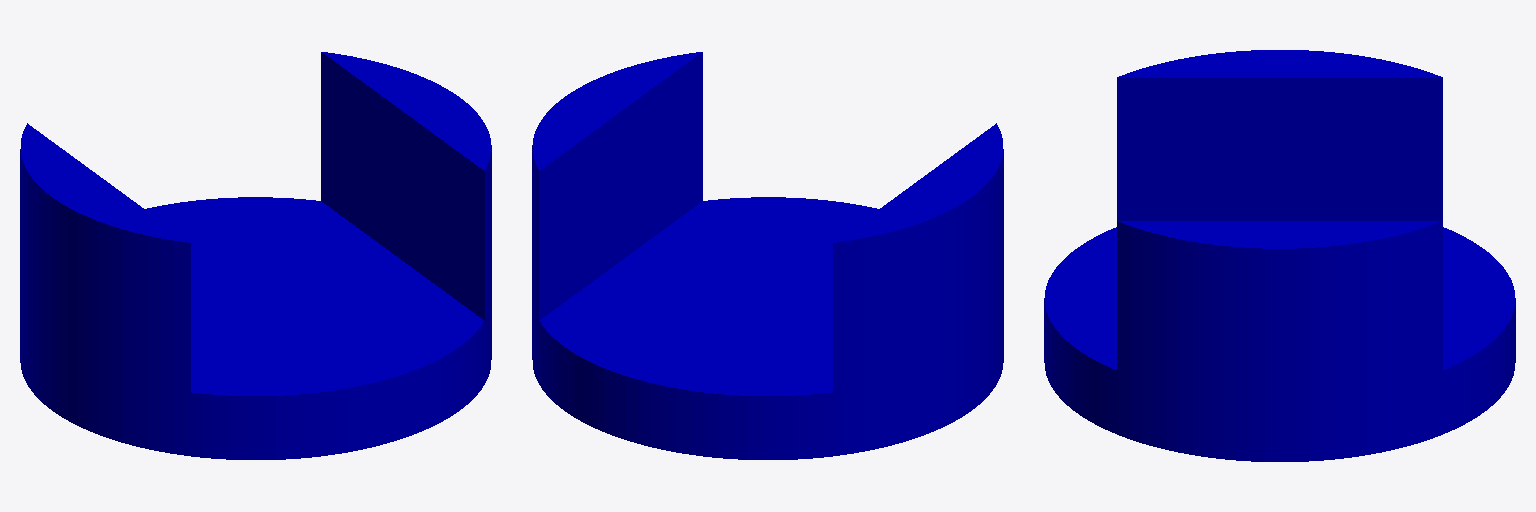
robot.urdf — visual:
<?xml version="1.0"?>
<robot name="visual">

<link name="base_link">
  <visual>
    <geometry>
      <mesh filename="base_moving.stl"/>
    </geometry>
    <material name="blue">
      <color rgba="0 0 .8 1"/>
    </material>
  </visual>
  <collision>
    <geometry>
      <mesh filename="base_moving.stl"/>
    </geometry>
  </collision>
  <inertial>
    <mass value="10"/>
    <inertia ixx="1e-3" ixy="0.0" ixz="0.0" iyy="1e-3" iyz="0.0" izz="1e-3"/>
  </inertial>
</link>

</robot>

--- Facts derived from the render (not from the file) ---
3 views of the same robot in one strip: view 1: azimuth 30°, elevation 25°; view 2: azimuth 150°, elevation 25°; view 3: azimuth 270°, elevation 25° (orthographic).
Robot: visual — 1 links, 0 joints (none); root link base_link; default pose: every joint at zero.
Visible links, largest first — view 1: base_link; view 2: base_link; view 3: base_link.
Link boxes in pixels (left/top/right/bottom): base_link: left=20, top=52, right=491, bottom=459; base_link: left=532, top=52, right=1003, bottom=459; base_link: left=1044, top=50, right=1515, bottom=461.
Size in the robot's own frame: 1 by 1 by 0.5 metres.
1 mesh visuals loaded from 1 distinct referenced files (1 binary STL).